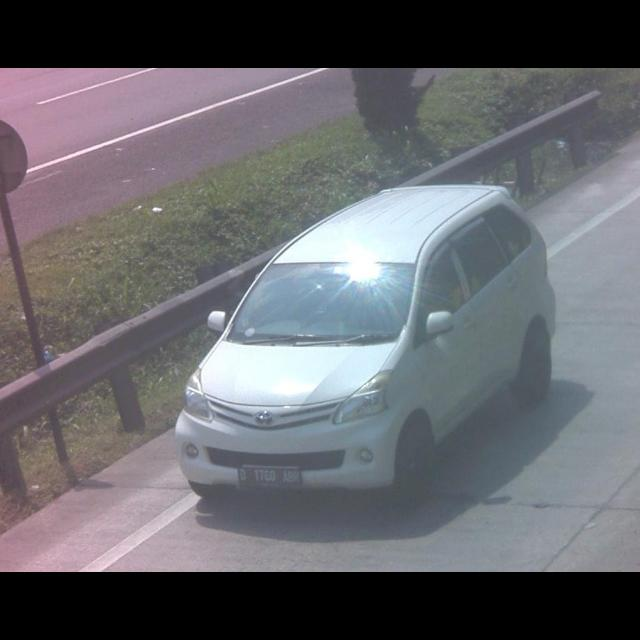plate: (235, 464, 302, 490)
